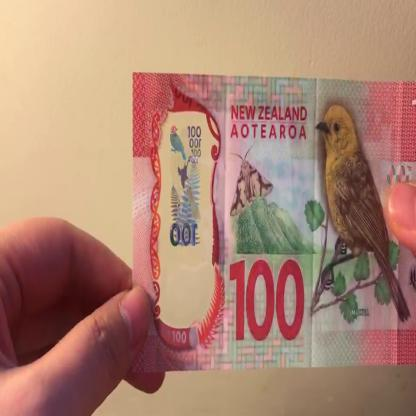100B: (163, 122, 210, 294)
